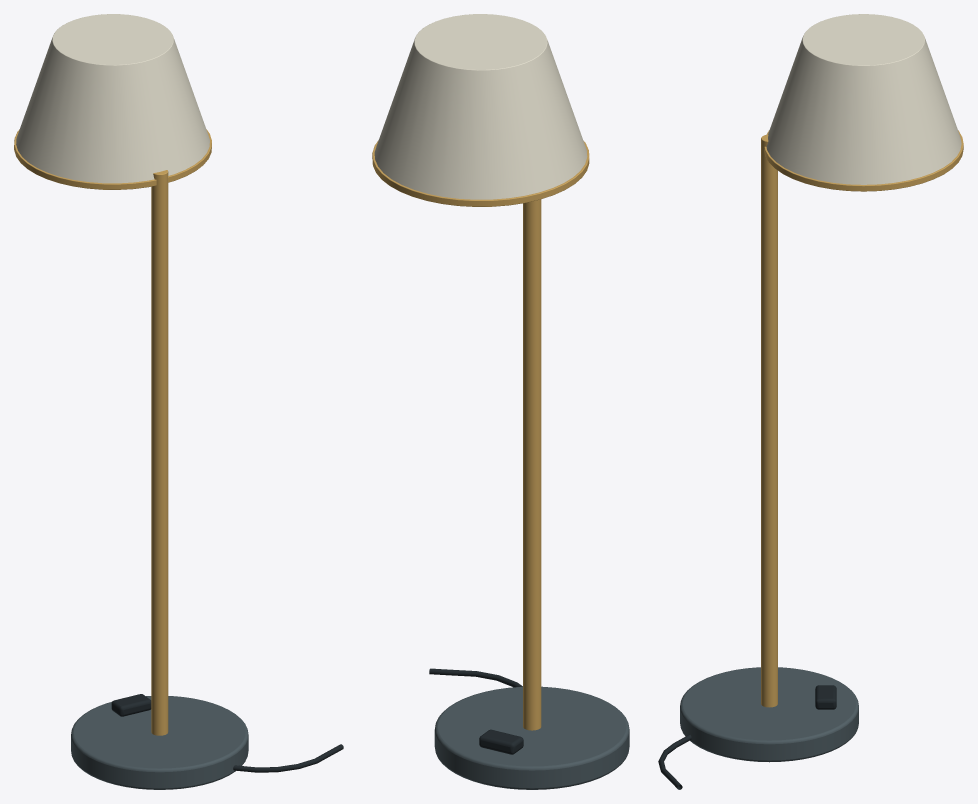
Rendered from reading_lamp.glb.
3 renders of one model, left to right at view 1: azimuth 30°, elevation 25°; view 2: azimuth 150°, elevation 25°; view 3: azimuth 270°, elevation 25°, orthographic. The views are drawn at different scales.
Visible parts, largest first — view 1: reading_lamp_render_mesh; view 2: reading_lamp_render_mesh; view 3: reading_lamp_render_mesh.
Boxes of the visible parts, x1=… form: reading_lamp_render_mesh: x1=14, y1=14, x2=343, y2=789; reading_lamp_render_mesh: x1=372, y1=14, x2=629, y2=789; reading_lamp_render_mesh: x1=658, y1=14, x2=963, y2=789.
Size of the model in its own units: 0.5538 by 1.61 by 0.648.
